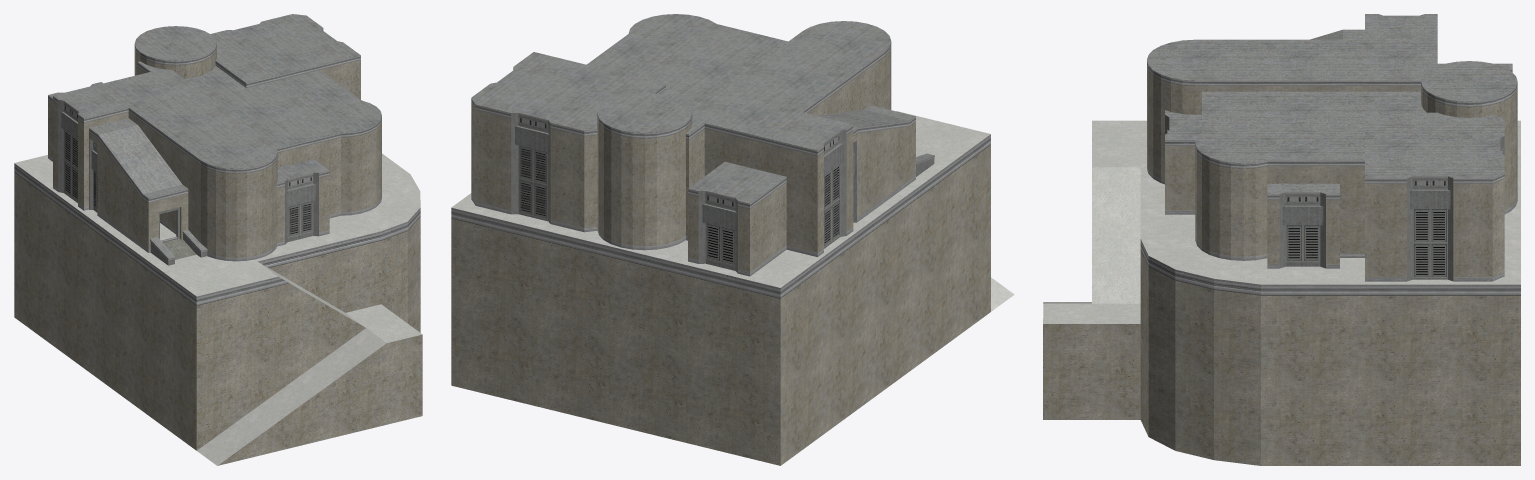
File: ply_all_house_lg_s02_fp1_r0_mesh_l0.fbx
3 views of the same model, side by side, from view 1: azimuth 30°, elevation 25°; view 2: azimuth 150°, elevation 25°; view 3: azimuth 270°, elevation 25° (orthographic). The views are drawn at different scales.
Parts seen in each view (by area): view 1: mesh_node; view 2: mesh_node; view 3: mesh_node.
Part boxes in pixels (bbox=[...]): mesh_node: bbox=[14, 14, 422, 465]; mesh_node: bbox=[451, 14, 1014, 465]; mesh_node: bbox=[1043, 14, 1520, 465].
Bounding box in the file's own units: 31.97 × 27.36 × 39.4.
